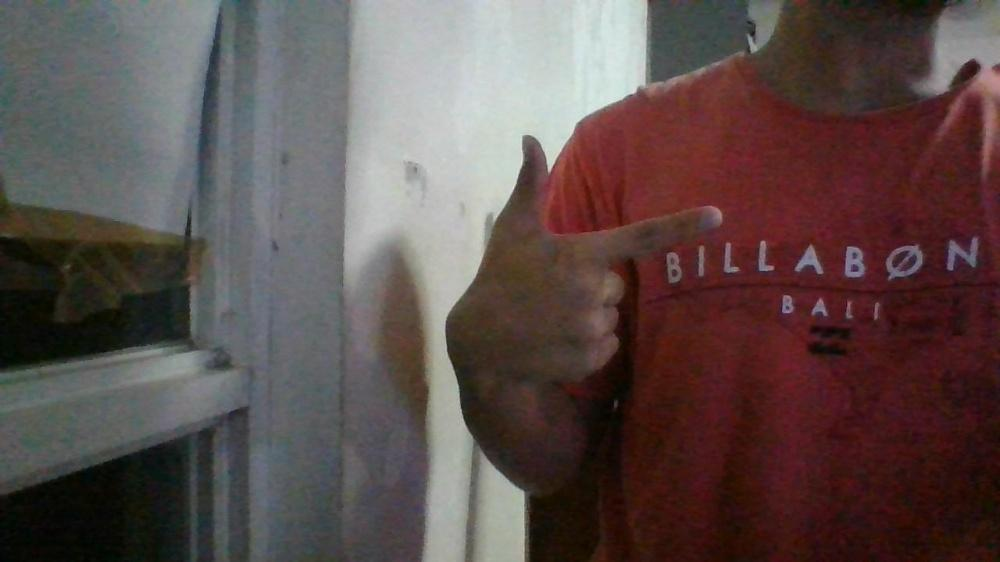g: (442, 133, 724, 388)
